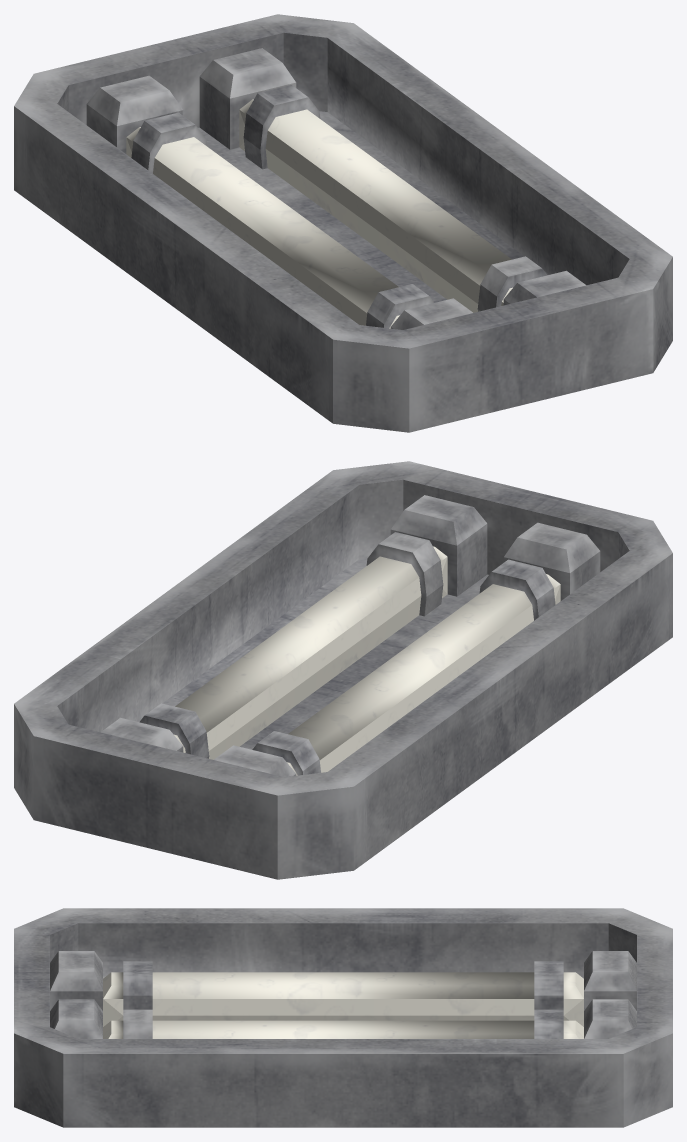
Rendered from Ceilinglamp (2).fbx.
3 renders of one model, top to bottom at view 1: azimuth 30°, elevation 25°; view 2: azimuth 150°, elevation 25°; view 3: azimuth 270°, elevation 25°, orthographic. The views are drawn at different scales.
Parts seen in each view (by area): view 1: Cube.001; view 2: Cube.001; view 3: Cube.001.
Part boxes in pixels (<box>): Cube.001: <box>14,14,672,432</box>; Cube.001: <box>14,461,672,879</box>; Cube.001: <box>14,908,672,1127</box>.
Bounding box in the file's own units: 75.63 × 17.89 × 145.
2 materials, 2 textured.
